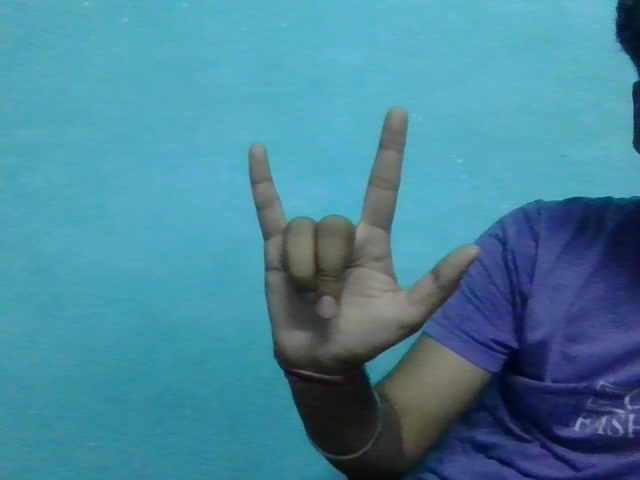iloveyou: (213, 117, 494, 364)
